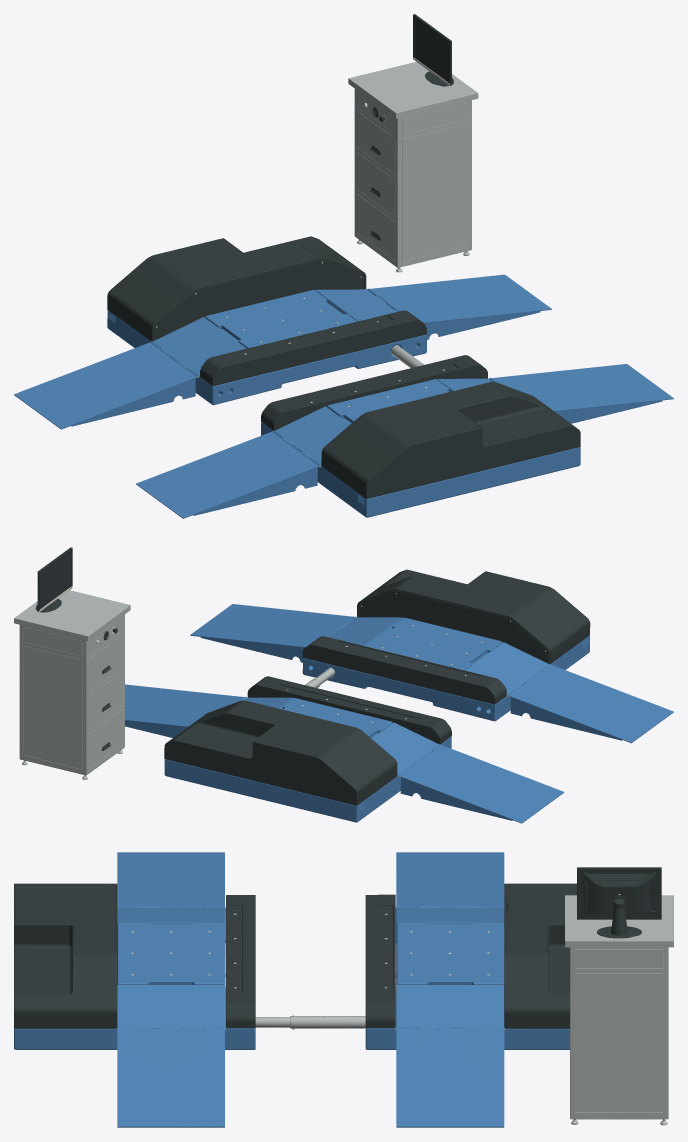
The model's file is testingTool_brake_testing_station_a01.glb.
The picture shows the model from 3 angles, top to bottom: view 1: azimuth 30°, elevation 25°; view 2: azimuth 150°, elevation 25°; view 3: azimuth 270°, elevation 25°; orthographic projection. The views are drawn at different scales.
Size of the model in its own units: 3.5 by 1.47 by 3.56.
